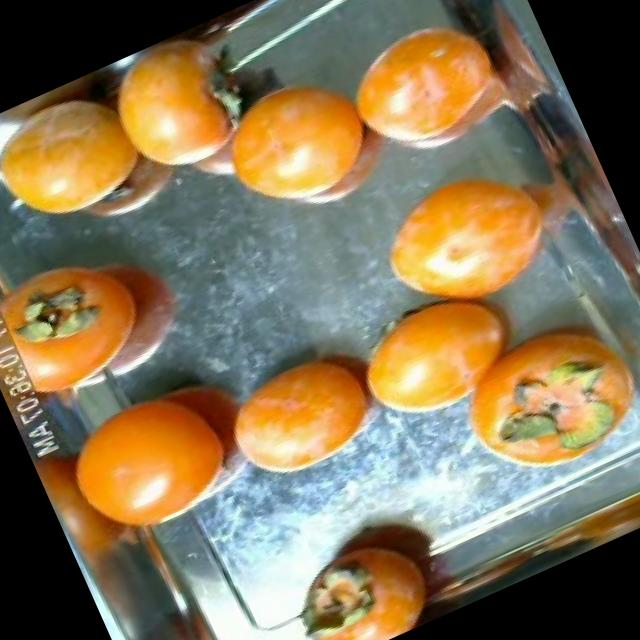Fruit: (344, 122, 602, 350), (189, 35, 421, 250), (190, 310, 418, 513), (322, 0, 540, 195), (329, 267, 521, 448), (0, 62, 176, 258)
